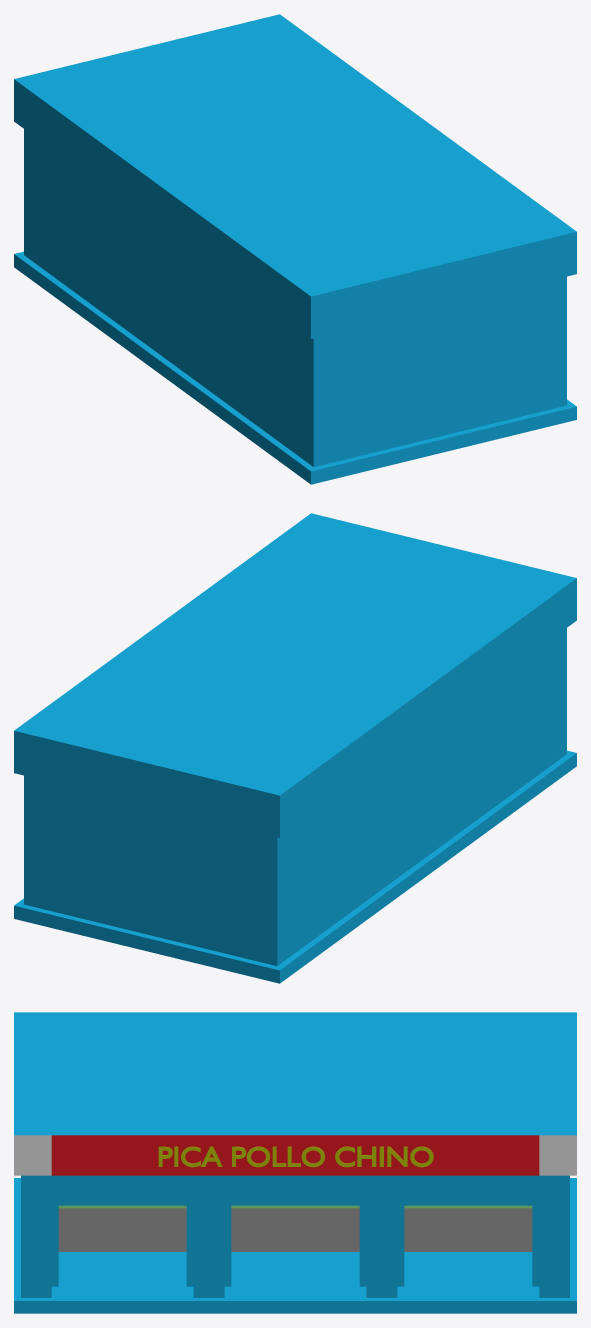
3 renders of one model, top to bottom at view 1: azimuth 30°, elevation 25°; view 2: azimuth 150°, elevation 25°; view 3: azimuth 270°, elevation 25°, orthographic. The views are drawn at different scales.
Parts seen in each view (by area): view 1: building_001; view 2: building_001; view 3: building_001, Text.
Part boxes in pixels (box(x1,y1,x2,y2)): building_001: box(14, 14, 576, 484); building_001: box(14, 513, 576, 983); building_001: box(14, 1012, 576, 1313); Text: box(158, 1146, 433, 1167).
Bounding box in the file's own units: 421 × 284 × 813.
